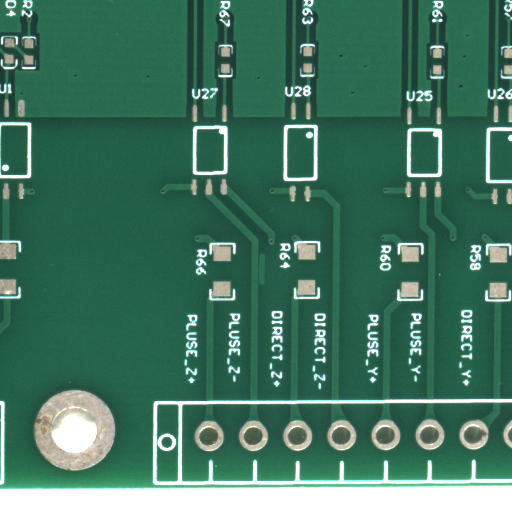Spurious_copper: (262, 270, 272, 305)
